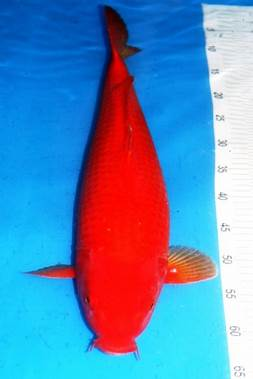red: (21, 3, 218, 359)
